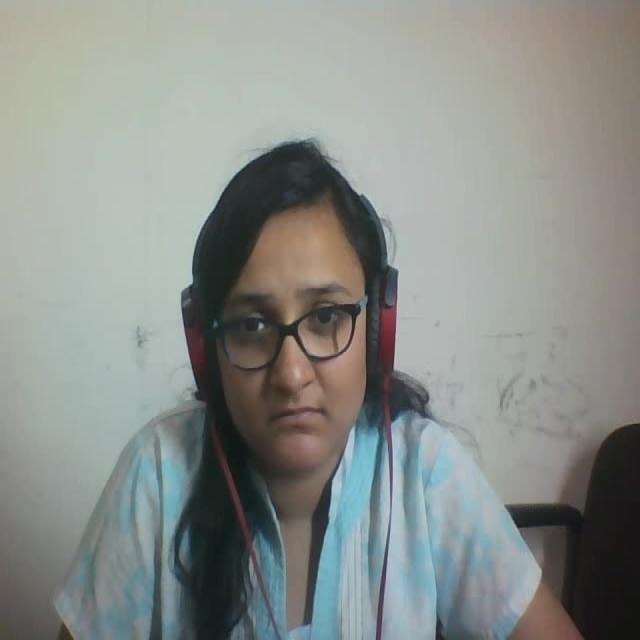Engaged: (176, 117, 397, 513)
